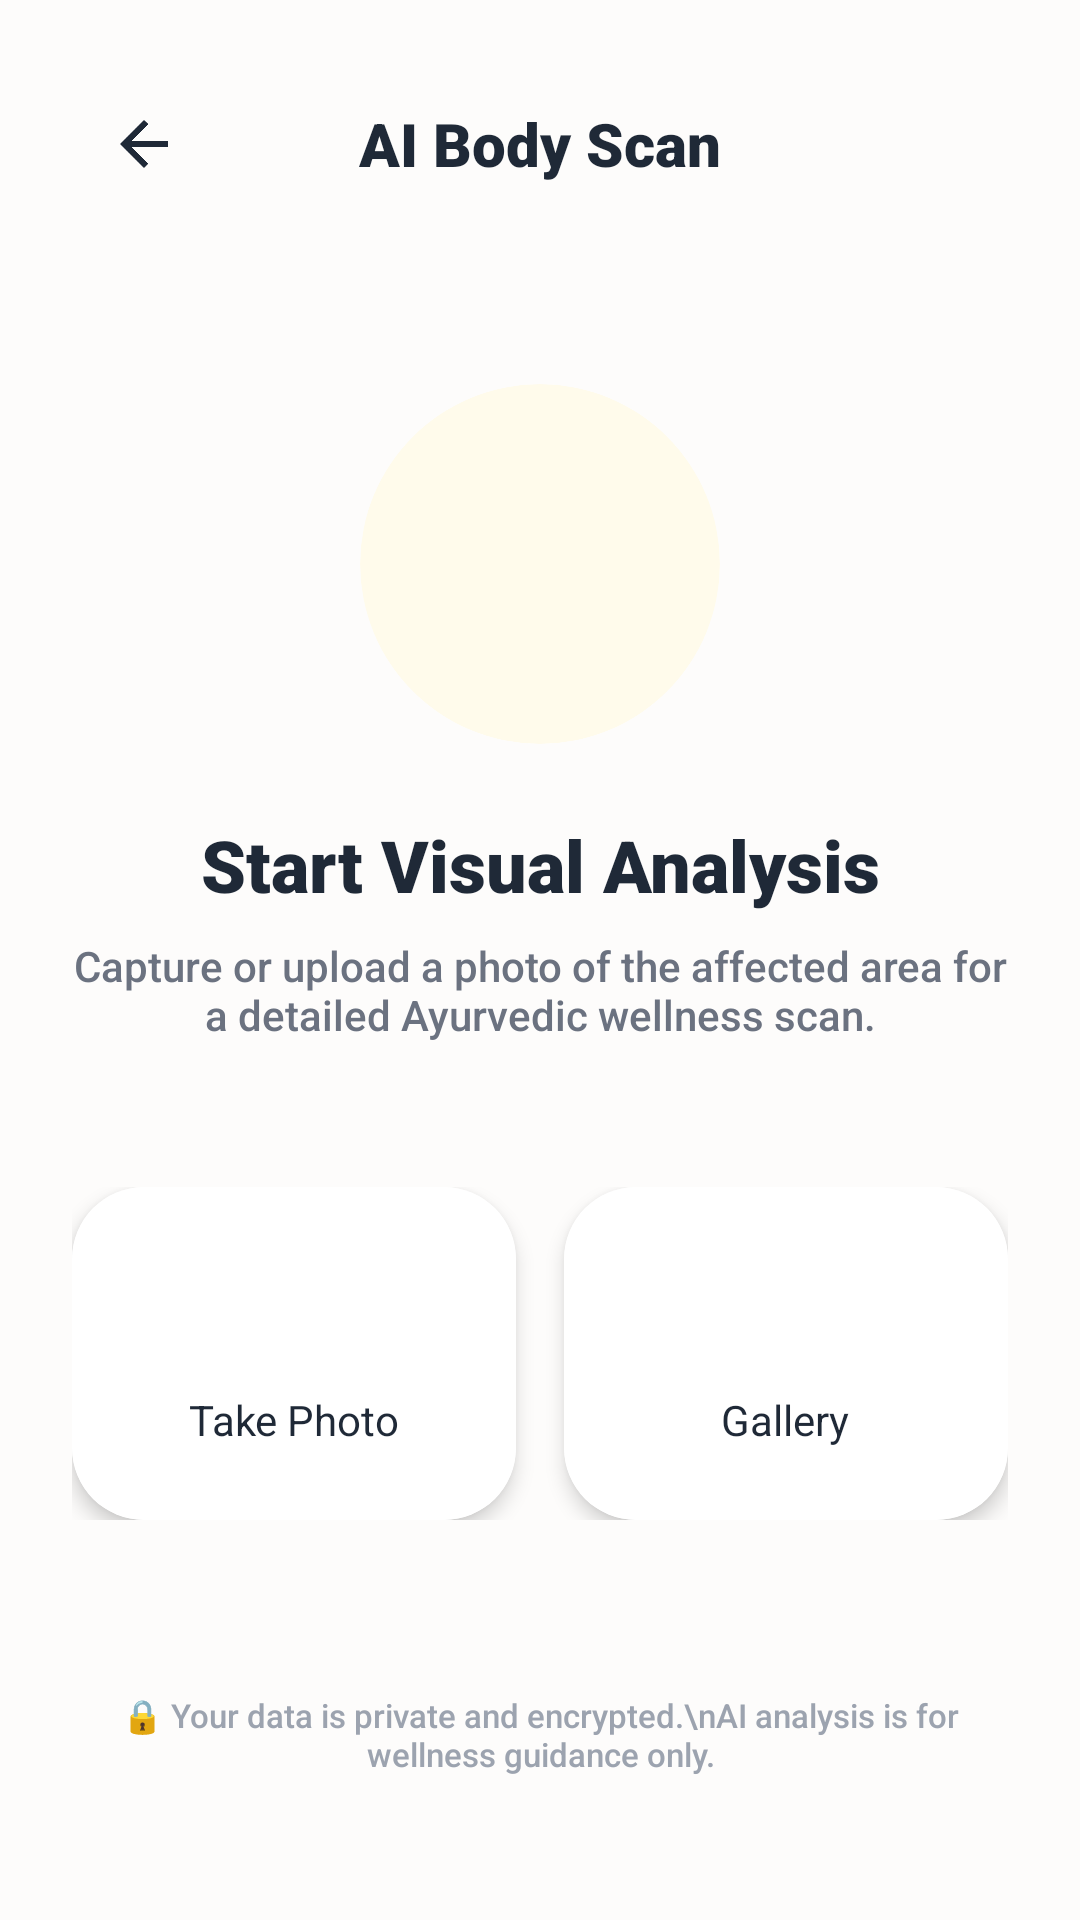

Named icons in this screenshot (1080 × 1920) and their bounding boxes, (x1, y1, x2, y2):
back: (120, 120, 168, 168)
